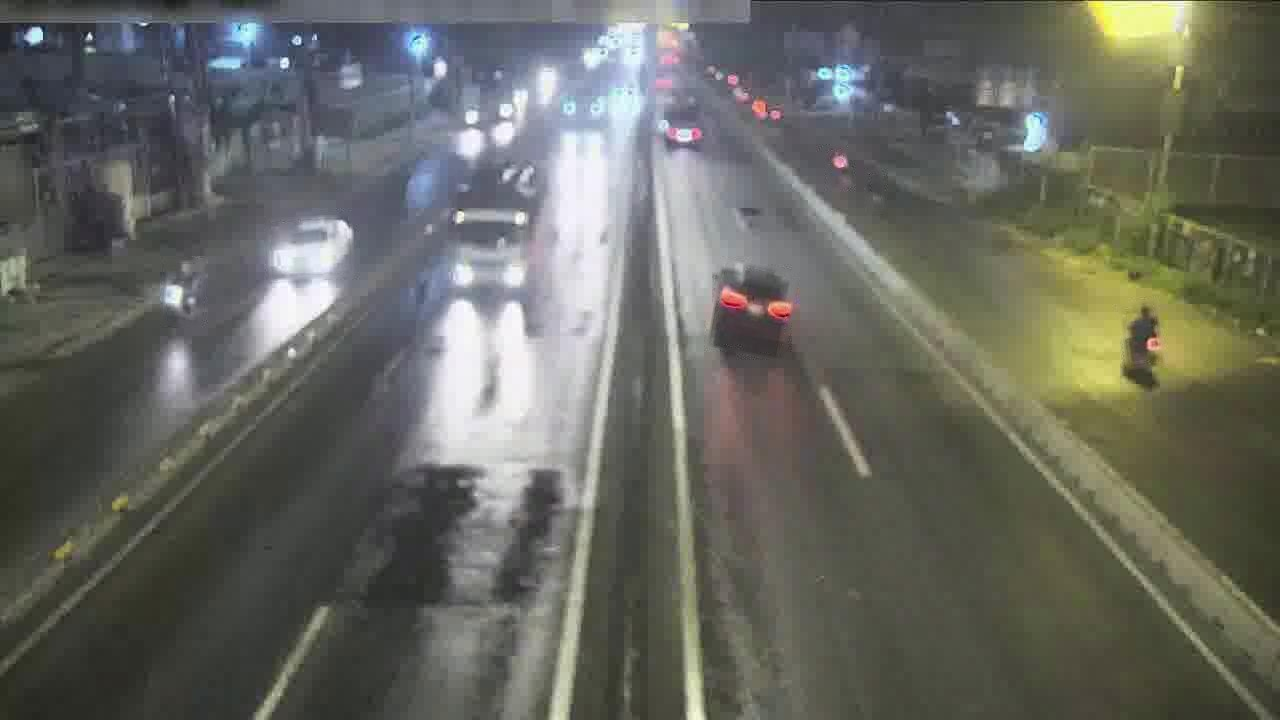Car: (710, 263, 792, 355), (269, 217, 353, 278), (663, 122, 702, 148)
Motorcyclist: (161, 259, 204, 320), (1123, 304, 1161, 371), (867, 170, 884, 212)
Traffic light: (831, 151, 849, 171)
Truck: (448, 161, 543, 297)
